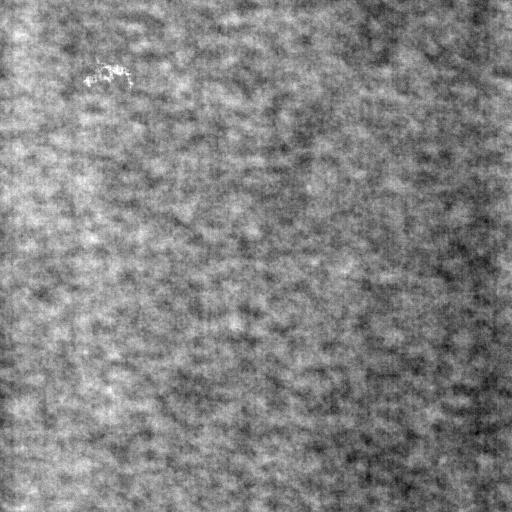DefectTypeA: (75, 62, 142, 93)
